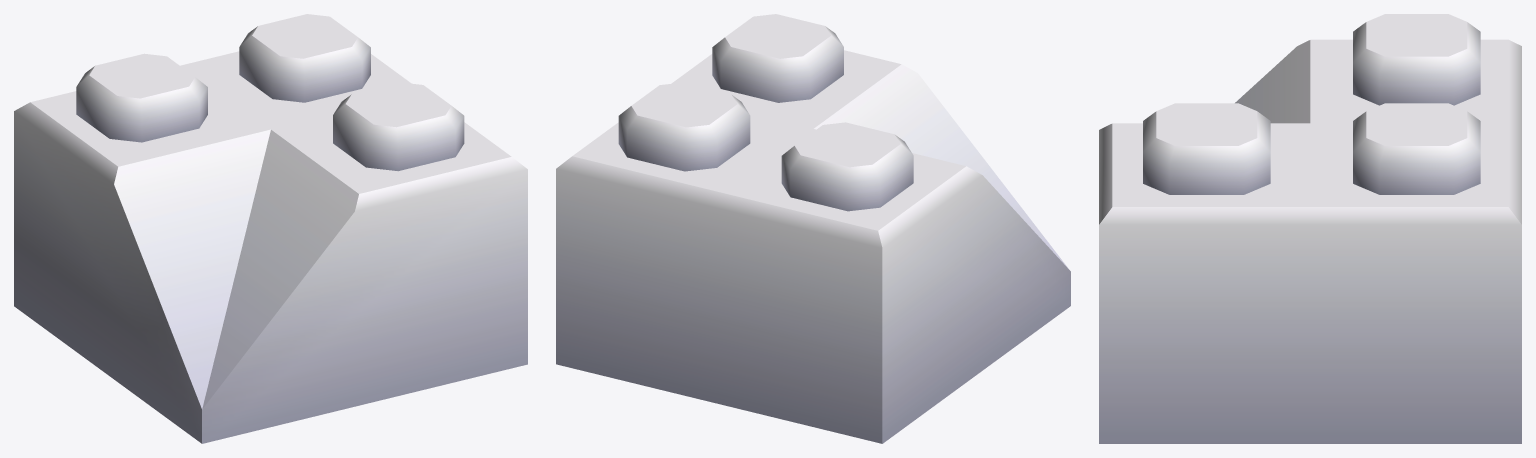
File: kenney-brick-bevel-hq-brick-slope-corner-inside-2-x-2.glb
The picture shows the model from 3 angles, left to right: view 1: azimuth 30°, elevation 25°; view 2: azimuth 150°, elevation 25°; view 3: azimuth 270°, elevation 25°; orthographic projection. The views are drawn at different scales.
Visible parts, largest first — view 1: bevel-hq-brick-slope-corner-inside-2x2; view 2: bevel-hq-brick-slope-corner-inside-2x2; view 3: bevel-hq-brick-slope-corner-inside-2x2.
Boxes of the visible parts, <box> form: bevel-hq-brick-slope-corner-inside-2x2: <box>14,14,527,443</box>; bevel-hq-brick-slope-corner-inside-2x2: <box>556,14,1070,443</box>; bevel-hq-brick-slope-corner-inside-2x2: <box>1099,14,1521,443</box>.
Bounding box in the file's own units: 0.159 × 0.114 × 0.159.
1 material, 1 textured.
